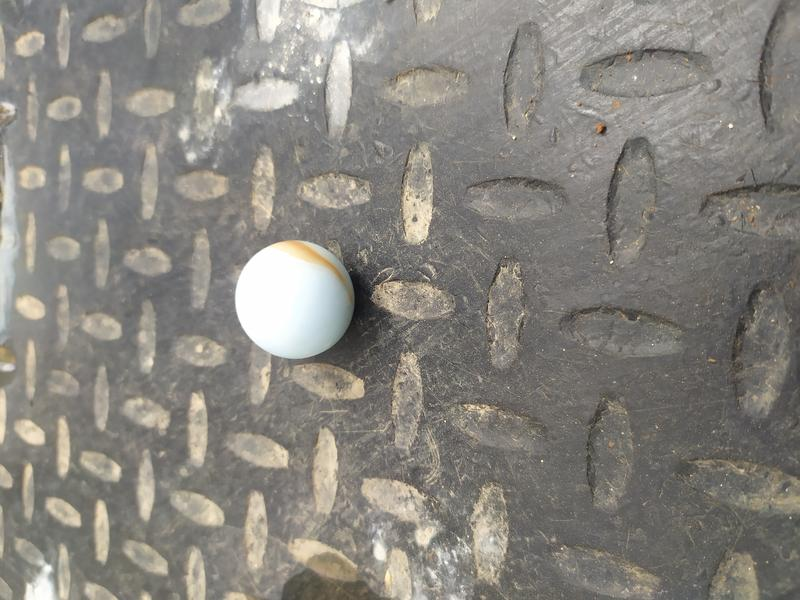Warning: (230, 235, 360, 363)
